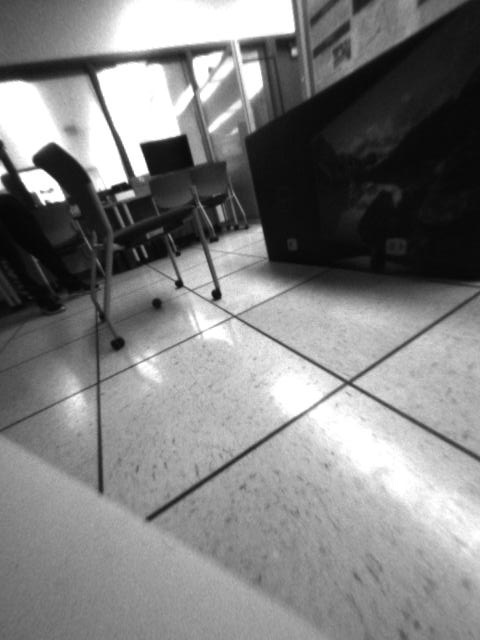dogtoy: (142, 292, 171, 314)
